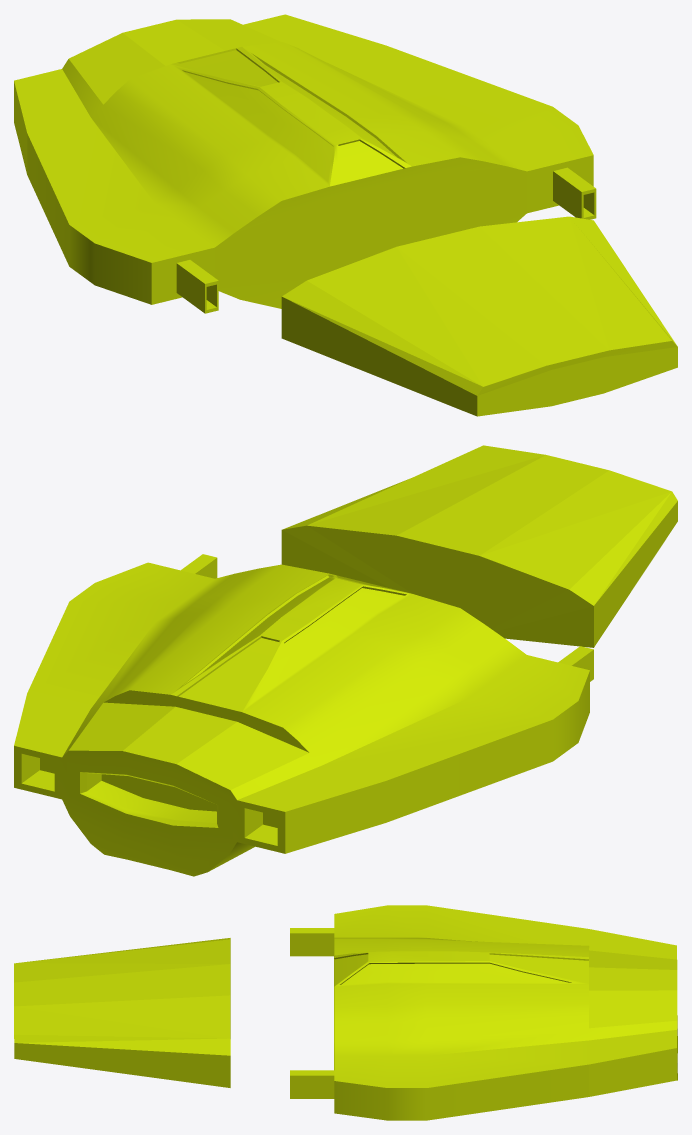
File: DestroyedAllyDefender.fbx
3 renders of one model, top to bottom at view 1: azimuth 30°, elevation 25°; view 2: azimuth 150°, elevation 25°; view 3: azimuth 270°, elevation 25°, orthographic. The views are drawn at different scales.
Visible parts, largest first — view 1: polySurface34, polySurface35; view 2: polySurface34, polySurface35; view 3: polySurface34, polySurface35.
Part boxes in pixels (left/top/right/bottom): polySurface34: left=14, top=14, right=596, bottom=313; polySurface35: left=281, top=216, right=677, bottom=416; polySurface34: left=14, top=554, right=593, bottom=876; polySurface35: left=281, top=445, right=677, bottom=647; polySurface34: left=290, top=905, right=677, bottom=1120; polySurface35: left=14, top=938, right=230, bottom=1087.
Bounding box in the file's own units: 75.13 × 21.64 × 115.
